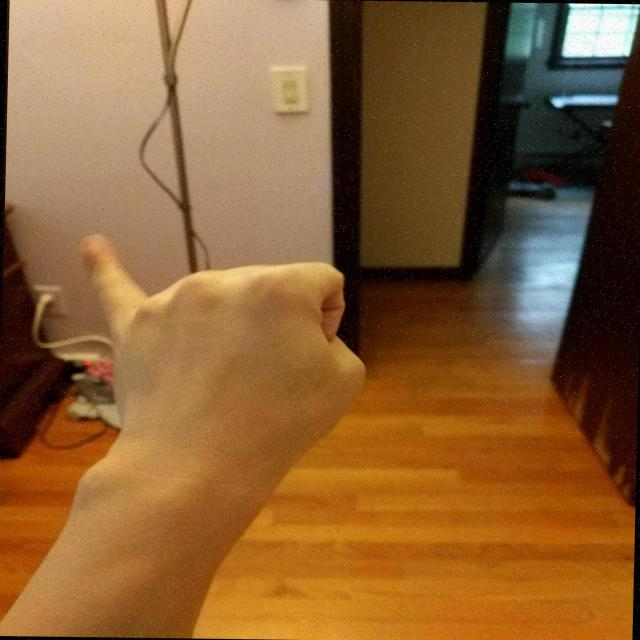J: (61, 222, 380, 475)
